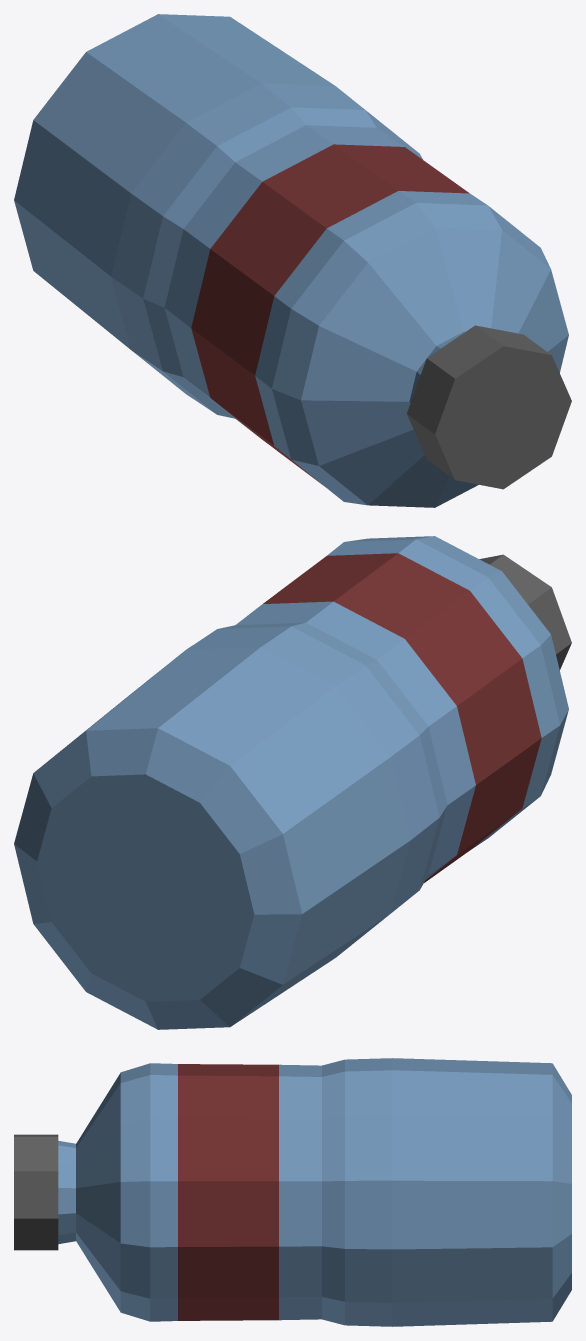
The model's file is SM_BottlePlasticB.glb.
The picture shows the model from 3 angles, top to bottom: view 1: azimuth 30°, elevation 25°; view 2: azimuth 150°, elevation 25°; view 3: azimuth 270°, elevation 25°; orthographic projection. The views are drawn at different scales.
Parts seen in each view (by area): view 1: part_00, part_01, part_02; view 2: part_00, part_01, part_02; view 3: part_00, part_01, part_02.
Part boxes in pixels (x1,y1,x2,y2): part_00: (14, 14, 568, 507); part_01: (191, 144, 469, 484); part_02: (407, 325, 571, 489); part_00: (14, 536, 568, 1029); part_01: (263, 553, 541, 882); part_02: (479, 554, 571, 670); part_00: (58, 1058, 571, 1326); part_01: (178, 1064, 278, 1320); part_02: (14, 1134, 58, 1250).
Bounding box in the file's own units: 0.0973 × 0.0973 × 0.2013.
